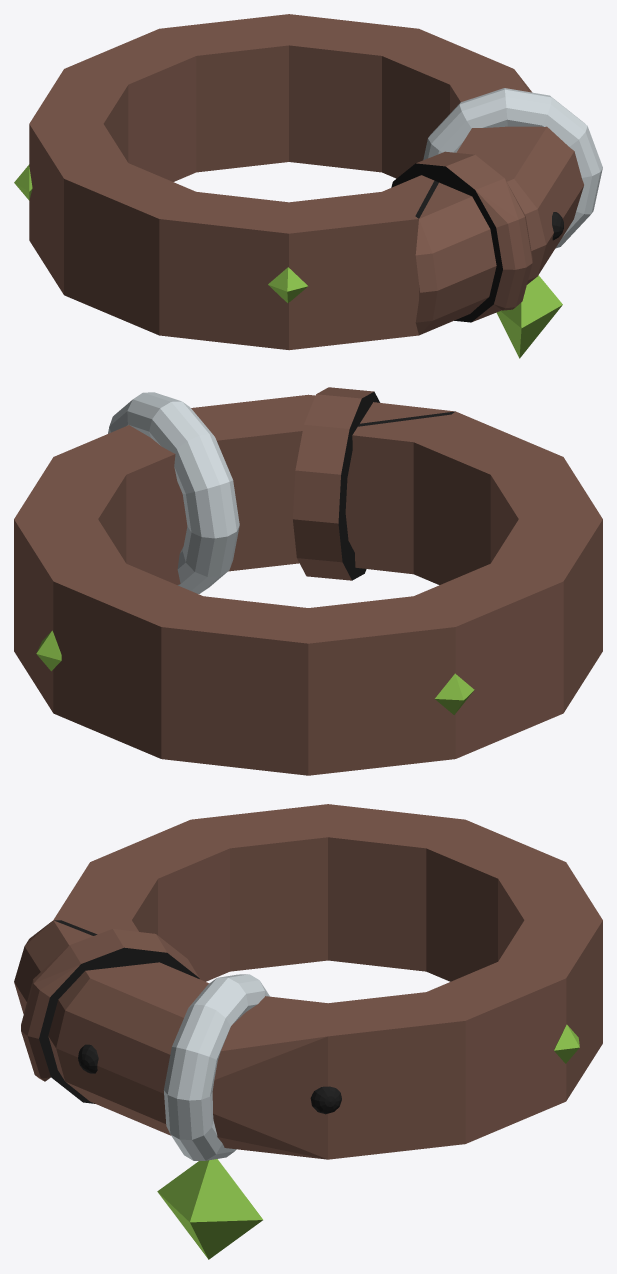
The model's file is collar.fbx.
3 renders of one model, top to bottom at view 1: azimuth 30°, elevation 25°; view 2: azimuth 150°, elevation 25°; view 3: azimuth 270°, elevation 25°, orthographic. The views are drawn at different scales.
Parts seen in each view (by area): view 1: mesh_280721353, mesh_1985451945, mesh_1265485515, mesh_1130156238, mesh_128547113; view 2: mesh_280721353, mesh_1265485515, mesh_1985451945, mesh_359324680, mesh_586397207; view 3: mesh_280721353, mesh_1265485515, mesh_1985451945, mesh_1130156238, mesh_1551920474, mesh_586397207.
Boxes of the visible parts, x1,y1,x2,y2 form: mesh_280721353: [29, 14, 583, 350]; mesh_1985451945: [391, 151, 532, 322]; mesh_1265485515: [423, 88, 602, 248]; mesh_1130156238: [496, 275, 562, 358]; mesh_128547113: [268, 267, 308, 302]; mesh_280721353: [14, 394, 602, 775]; mesh_1265485515: [108, 392, 239, 593]; mesh_1985451945: [292, 387, 380, 580]; mesh_359324680: [435, 673, 474, 714]; mesh_586397207: [36, 630, 61, 671]; mesh_280721353: [14, 804, 602, 1159]; mesh_1265485515: [164, 974, 269, 1160]; mesh_1985451945: [21, 929, 199, 1103]; mesh_1130156238: [157, 1159, 262, 1259]; mesh_1551920474: [310, 1086, 341, 1114]; mesh_586397207: [554, 1024, 579, 1063].
Bounding box in the file's own units: 121 × 64.75 × 124.
